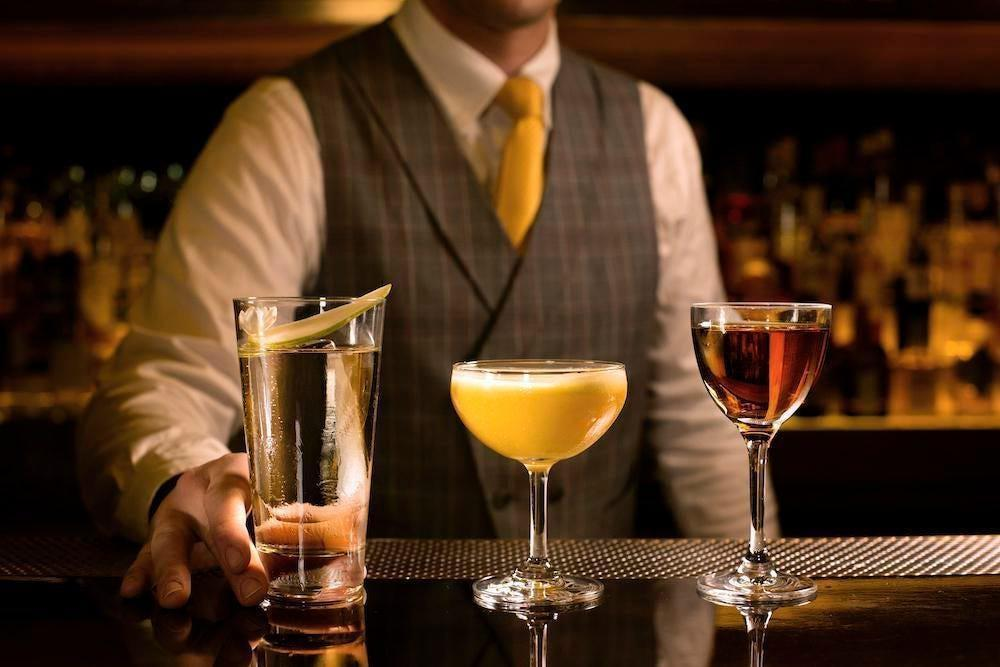glass-normal: (232, 293, 392, 652)
glass-wine: (449, 354, 628, 611), (688, 298, 833, 603)
